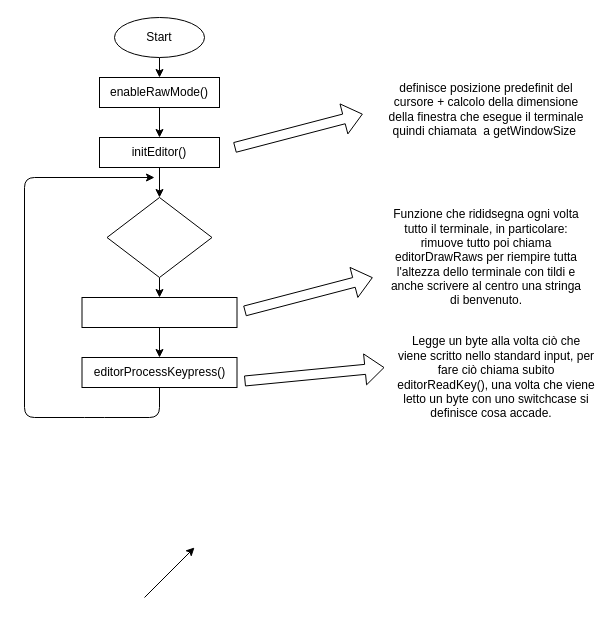
The diagram is 614 pixels wide and 623 high, and some of its shapes have lost their labels. The centre of each missing label's shape, as x and y in pixels:
ciclo while (1): [159,237]
editorRefreshScreen(): [159,312]
